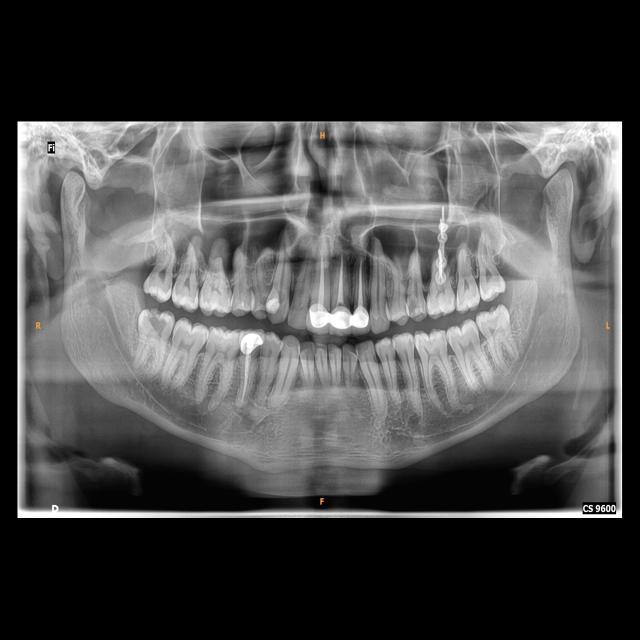dentin-curugu: (143, 312, 170, 338)
dolgu: (265, 284, 285, 318)
kanal-tedavisi: (237, 353, 252, 403), (334, 253, 348, 306), (316, 249, 328, 307), (354, 256, 366, 304)
kaplama: (238, 328, 264, 354), (328, 302, 351, 330), (307, 303, 330, 329), (349, 304, 368, 329)
